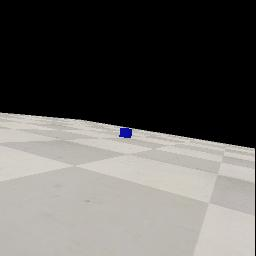box: (119, 128, 132, 138)
